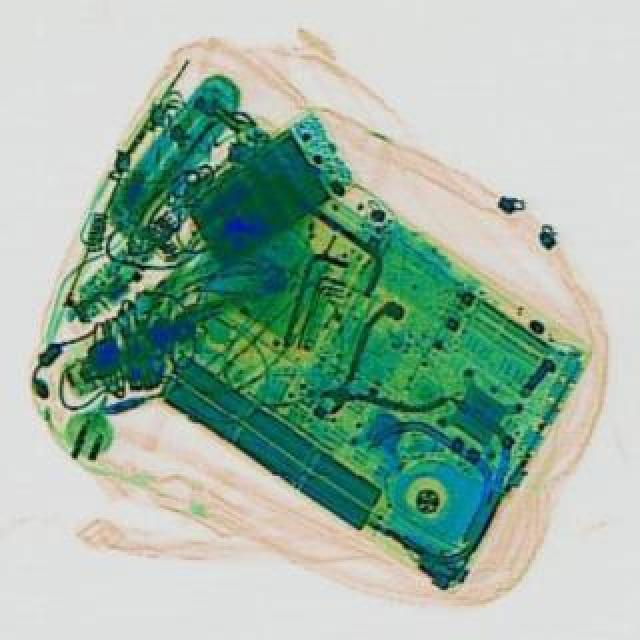wrench: (286, 294, 454, 450)
